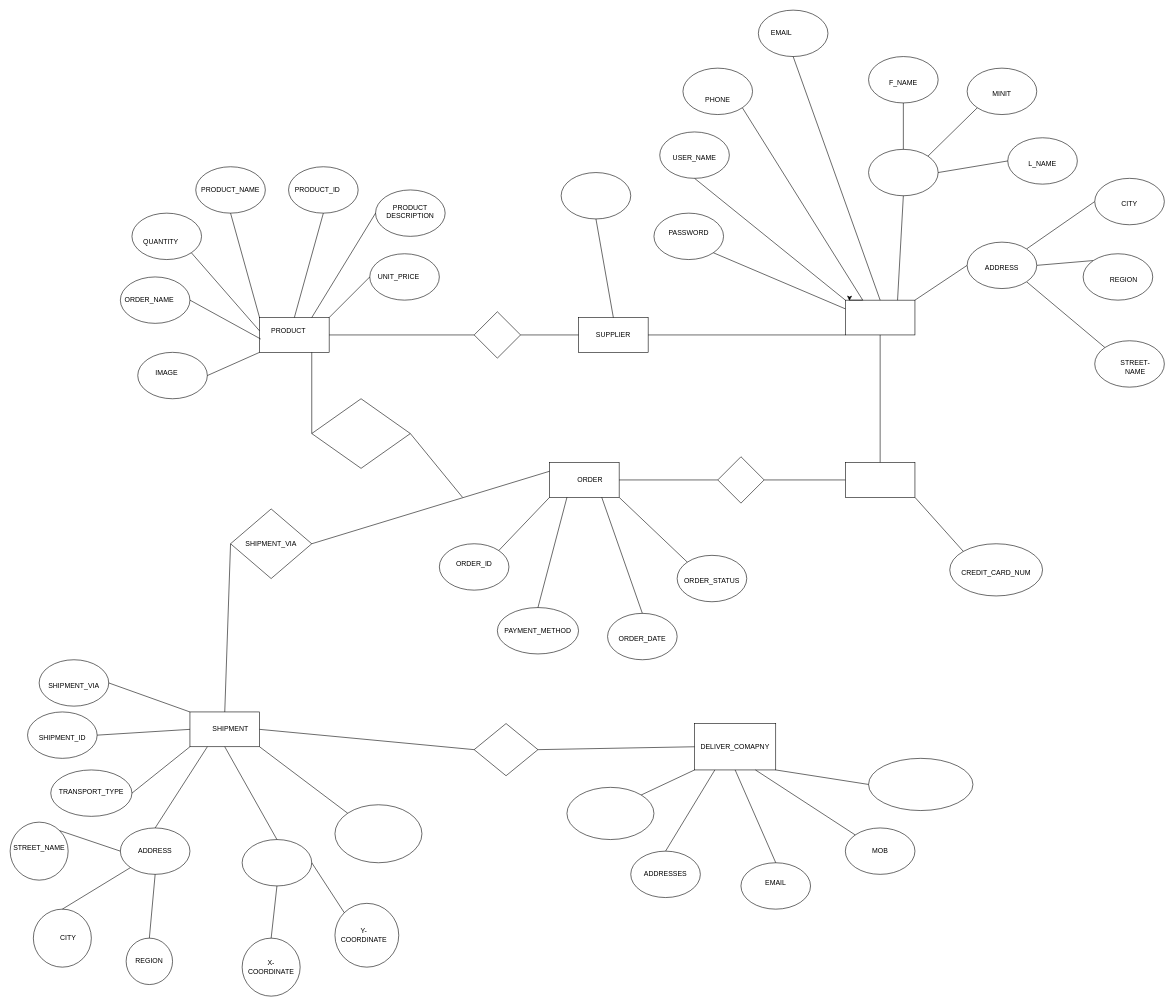
Some shapes in this 1175 by 1006 pixel diagram are drawn without their labels. Here are the shapes that lost their labels. From the top down, the centre of each, then its label:
At point 903,172: "NAME".
At point 596,195: "SUPPLIER_TYPE".
At point 497,334: "ADD".
At point 880,317: "PERSON".
At point 360,433: "RELATIONSHIP".
At point 740,479: "ORDERS".
At point 880,479: "CUSTOMER".
At point 506,749: "DELIVER".
At point 920,784: "DELIVERY_COM_NAME".
At point 378,833: "SHIPMENT_STATUS".
At point 610,813: "DELIVERY_COM_ID".
At point 277,862: "LOCATION".
